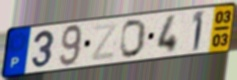1: (191, 10, 206, 53)
3: (29, 28, 57, 70)
4: (155, 13, 181, 54)
9: (57, 23, 84, 69)
O: (119, 17, 149, 59)
Z: (89, 21, 120, 63)
